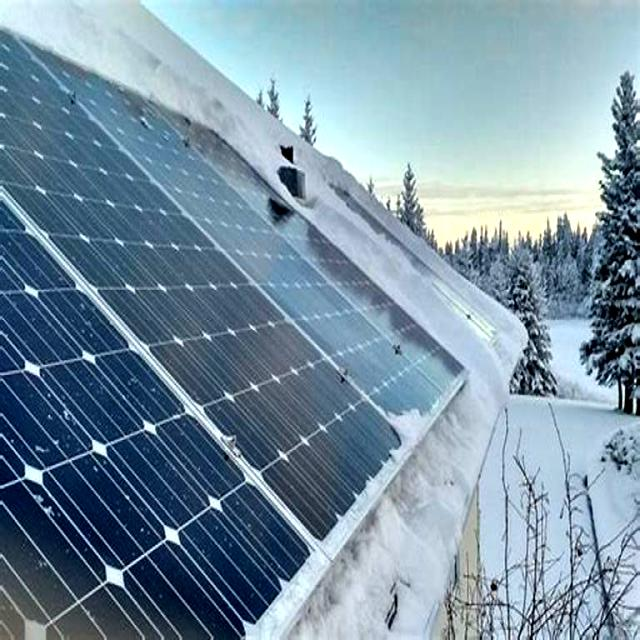panel: (378, 369, 436, 456)
